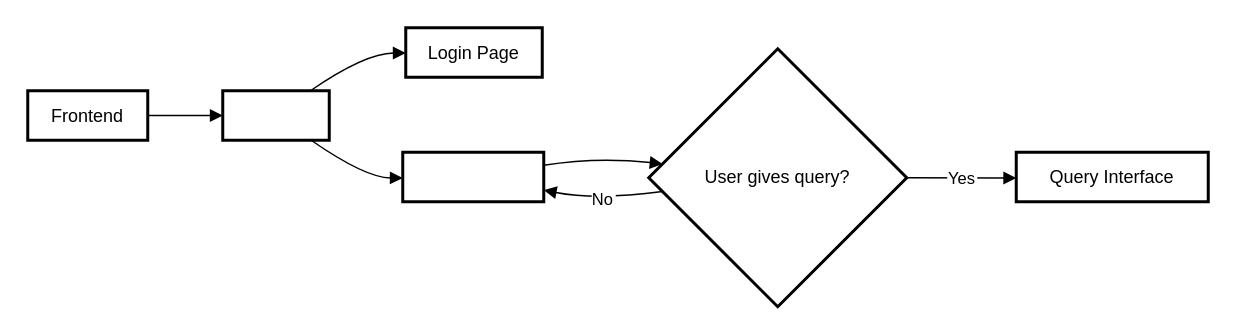
This 1235x333 diagram has some shape labels left out. Here are the shapes that lost their labels. From the top down, the box of each, then its label:
(220, 88, 330, 141): ReactJS
(400, 150, 544, 202): Home Page
